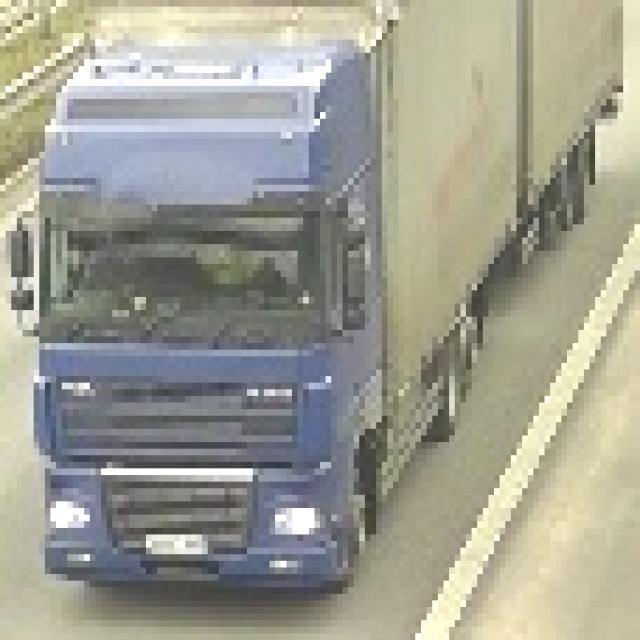TRUCK: (28, 0, 623, 587)
